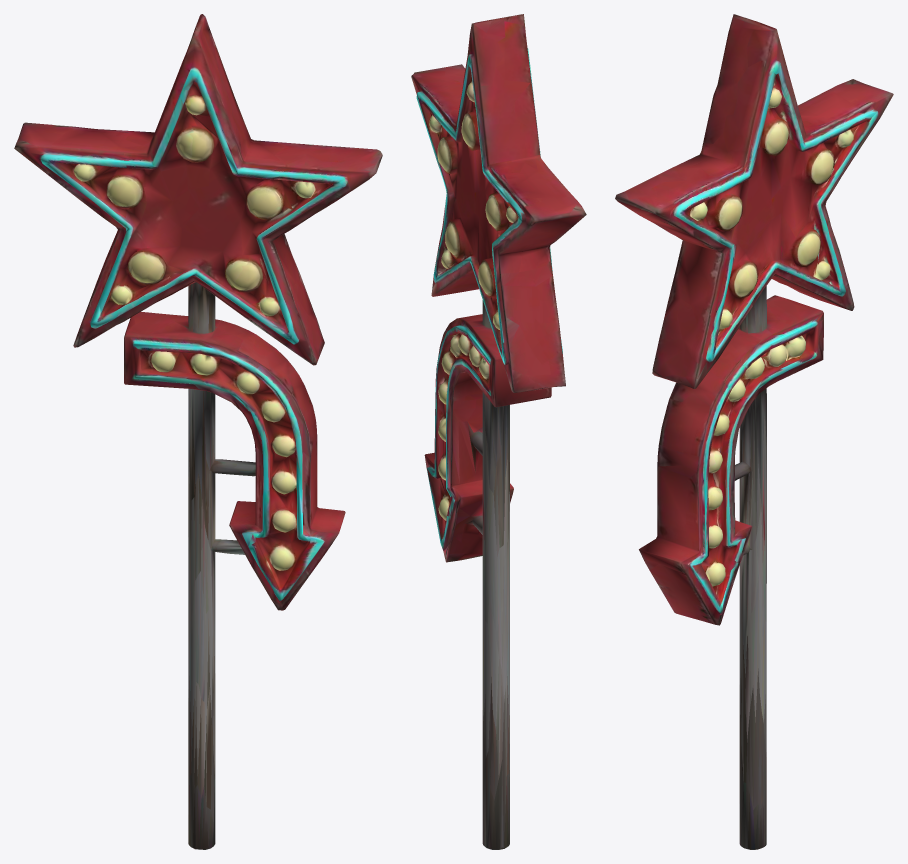
File: prop_mile_sign.fbx
3 views of the same model, side by side, from view 1: azimuth 30°, elevation 25°; view 2: azimuth 150°, elevation 25°; view 3: azimuth 270°, elevation 25° (orthographic).
Visible parts, largest first — view 1: tripo_node_8b0d0e71-5c3c-4190-8355-ec06ca6f84d7; view 2: tripo_node_8b0d0e71-5c3c-4190-8355-ec06ca6f84d7; view 3: tripo_node_8b0d0e71-5c3c-4190-8355-ec06ca6f84d7.
Part boxes in pixels (bbox=[...]): tripo_node_8b0d0e71-5c3c-4190-8355-ec06ca6f84d7: bbox=[14, 14, 382, 849]; tripo_node_8b0d0e71-5c3c-4190-8355-ec06ca6f84d7: bbox=[411, 14, 586, 849]; tripo_node_8b0d0e71-5c3c-4190-8355-ec06ca6f84d7: bbox=[615, 14, 893, 849].
Bounding box in the file's own units: 0.3389 × 0.9804 × 0.3013.
